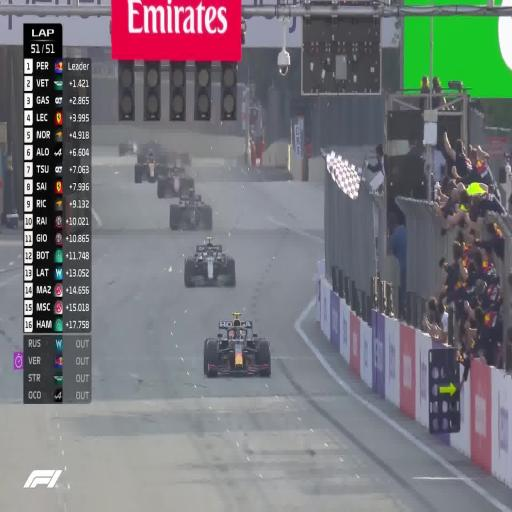f1_car: (203, 313, 271, 376), (184, 237, 235, 287), (134, 141, 189, 182), (169, 190, 212, 230), (157, 166, 194, 198), (118, 141, 137, 156)
